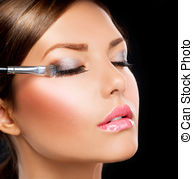face: (1, 1, 152, 170)
